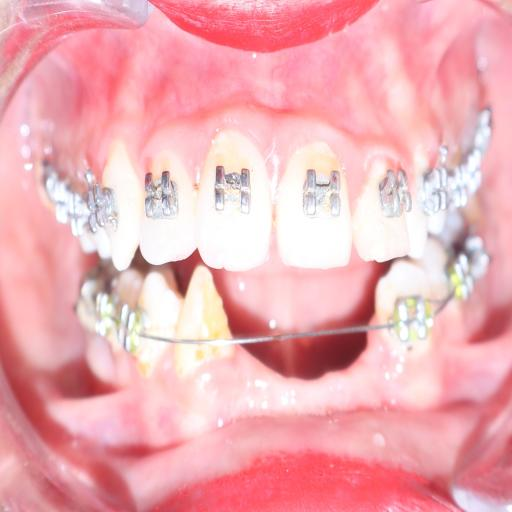correct_brace: (298, 157, 344, 221), (209, 157, 256, 219), (141, 164, 180, 230), (84, 178, 119, 244), (376, 161, 412, 222)
incorrect_brace: (138, 137, 196, 263), (354, 150, 414, 264)
